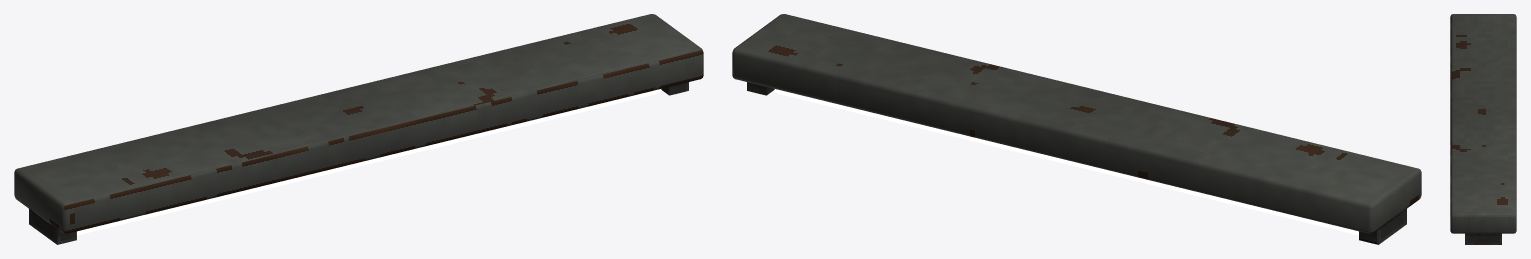
File: lamp_tube.glb
The picture shows the model from 3 angles, left to right: view 1: azimuth 30°, elevation 25°; view 2: azimuth 150°, elevation 25°; view 3: azimuth 270°, elevation 25°; orthographic projection. The views are drawn at different scales.
Visible parts, largest first — view 1: lamp_tube, glow.001; view 2: lamp_tube, glow.001; view 3: lamp_tube.
Part boxes in pixels (x1,y1,x2,y2): lamp_tube: [14, 14, 703, 244]; glow.001: [77, 89, 661, 235]; lamp_tube: [732, 14, 1421, 244]; glow.001: [774, 89, 1358, 235]; lamp_tube: [1450, 14, 1516, 244].
Size of the model in its own units: 1.3 by 0.1088 by 0.18.
Materials: 2 (1 with a texture image).
